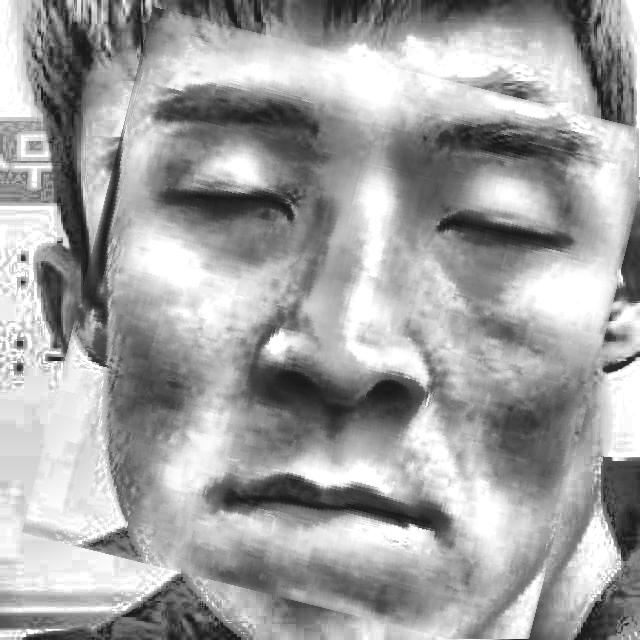angry: (51, 35, 627, 631)
